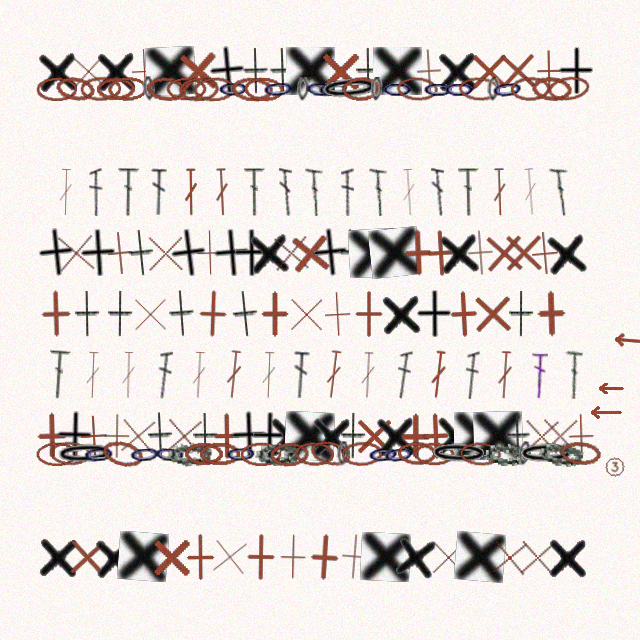chain: (319, 74, 380, 103), (55, 441, 115, 467), (429, 441, 489, 466), (517, 441, 577, 466), (100, 437, 145, 470), (308, 437, 353, 470), (54, 74, 97, 104), (538, 440, 584, 468), (547, 74, 591, 103), (255, 440, 300, 467), (167, 441, 212, 467), (145, 75, 187, 102), (559, 440, 601, 467), (193, 76, 236, 102), (459, 441, 502, 467), (531, 75, 572, 102), (231, 76, 273, 102), (243, 76, 285, 102), (396, 76, 438, 102), (458, 76, 500, 102), (178, 76, 219, 102), (269, 441, 310, 467), (484, 442, 528, 466), (107, 76, 149, 101), (49, 441, 91, 466), (341, 441, 383, 466), (80, 76, 121, 101), (341, 76, 382, 101), (36, 442, 78, 466), (240, 442, 282, 466), (381, 440, 417, 468), (510, 76, 550, 101), (294, 441, 334, 466), (397, 441, 437, 466), (36, 77, 77, 101), (166, 77, 207, 101), (199, 442, 240, 466), (414, 442, 455, 466), (490, 75, 525, 103), (96, 77, 136, 101), (184, 442, 224, 466), (261, 75, 296, 102), (316, 75, 351, 102), (366, 441, 401, 467), (304, 76, 338, 102), (82, 441, 116, 467), (128, 441, 162, 467), (153, 441, 187, 467), (224, 441, 258, 466), (217, 76, 250, 101), (381, 77, 414, 101), (422, 77, 455, 101), (443, 77, 476, 101), (517, 441, 532, 466), (142, 76, 156, 101), (336, 441, 350, 466), (370, 77, 383, 101), (487, 77, 500, 101), (297, 77, 309, 101)
double: (47, 350, 71, 399), (549, 167, 572, 216), (323, 350, 344, 399), (428, 350, 449, 399), (118, 168, 139, 216), (244, 168, 265, 216), (458, 168, 479, 216), (224, 350, 244, 399), (563, 350, 583, 399), (521, 167, 540, 216), (305, 168, 324, 216), (369, 168, 388, 216), (395, 350, 413, 399), (213, 168, 231, 216), (400, 168, 418, 216), (190, 351, 208, 399), (292, 351, 310, 399), (359, 351, 377, 399), (496, 351, 514, 399), (156, 350, 173, 399), (57, 168, 74, 216), (491, 168, 508, 216), (84, 351, 101, 399), (120, 351, 137, 399), (260, 351, 277, 399), (531, 351, 548, 399), (151, 168, 167, 216), (183, 168, 199, 216), (464, 351, 480, 399), (89, 168, 103, 216), (431, 168, 445, 216), (279, 168, 292, 216), (341, 168, 354, 216)
noise: (603, 455, 627, 479), (588, 406, 622, 419), (612, 333, 640, 348), (596, 383, 624, 394)
single: (368, 226, 421, 279), (203, 530, 256, 583), (94, 227, 146, 279), (284, 227, 336, 279), (518, 227, 570, 279), (454, 531, 506, 583), (483, 531, 535, 583), (117, 531, 169, 582), (391, 530, 441, 583), (172, 45, 223, 96), (50, 227, 101, 278), (265, 227, 316, 278), (455, 227, 506, 278), (112, 410, 163, 461), (158, 410, 209, 461), (329, 531, 380, 582), (145, 46, 196, 96), (348, 228, 399, 278), (284, 411, 335, 461), (360, 532, 411, 582), (63, 46, 113, 96), (119, 46, 169, 96), (404, 46, 454, 96), (416, 228, 466, 278), (479, 228, 529, 278), (312, 289, 362, 339), (439, 289, 489, 339), (69, 411, 119, 461), (411, 411, 461, 461), (516, 411, 566, 461), (62, 532, 112, 582), (299, 532, 349, 582), (512, 532, 562, 582), (543, 227, 591, 279), (473, 411, 523, 460), (493, 46, 542, 95), (185, 228, 234, 277), (393, 228, 442, 277), (499, 228, 548, 277), (31, 289, 80, 338), (188, 289, 237, 338), (468, 289, 517, 338), (527, 289, 576, 338), (27, 411, 76, 460), (535, 411, 584, 460), (556, 411, 605, 460), (268, 532, 317, 581), (246, 227, 293, 278), (436, 227, 483, 278), (286, 47, 335, 95), (373, 47, 422, 95), (454, 412, 503, 460), (316, 47, 364, 95), (465, 47, 513, 95), (525, 47, 573, 95), (141, 229, 189, 277), (126, 290, 174, 338), (251, 290, 299, 338), (282, 290, 330, 338), (345, 290, 393, 338), (93, 412, 141, 460), (203, 412, 251, 460), (350, 412, 398, 460), (391, 412, 439, 460), (147, 533, 195, 581), (176, 533, 224, 581), (237, 533, 285, 581), (424, 533, 472, 581), (35, 46, 81, 96), (92, 532, 138, 582), (373, 411, 419, 460), (433, 411, 479, 460), (94, 46, 139, 95), (435, 46, 480, 95), (379, 289, 424, 338), (36, 532, 81, 581), (167, 227, 209, 279), (267, 412, 312, 460), (310, 412, 354, 460), (546, 533, 590, 581), (206, 45, 247, 96), (35, 227, 76, 278), (309, 227, 350, 278), (211, 228, 251, 278), (78, 228, 117, 278), (55, 411, 93, 460), (229, 411, 267, 460), (557, 47, 594, 95), (232, 229, 269, 277), (415, 290, 452, 338), (250, 412, 287, 460), (127, 228, 156, 278), (231, 289, 260, 339), (168, 289, 196, 338), (338, 228, 365, 277), (147, 411, 174, 460), (243, 47, 269, 95), (270, 47, 296, 95), (505, 412, 531, 460), (356, 47, 381, 95), (75, 290, 100, 338), (108, 290, 133, 338), (509, 290, 534, 338), (193, 412, 218, 460), (341, 412, 366, 460)
